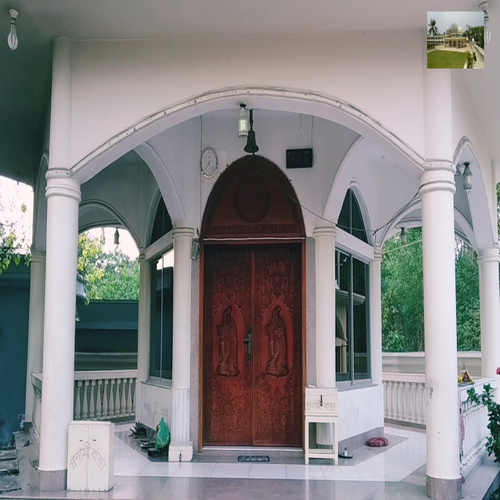Temple: (32, 41, 472, 493)
